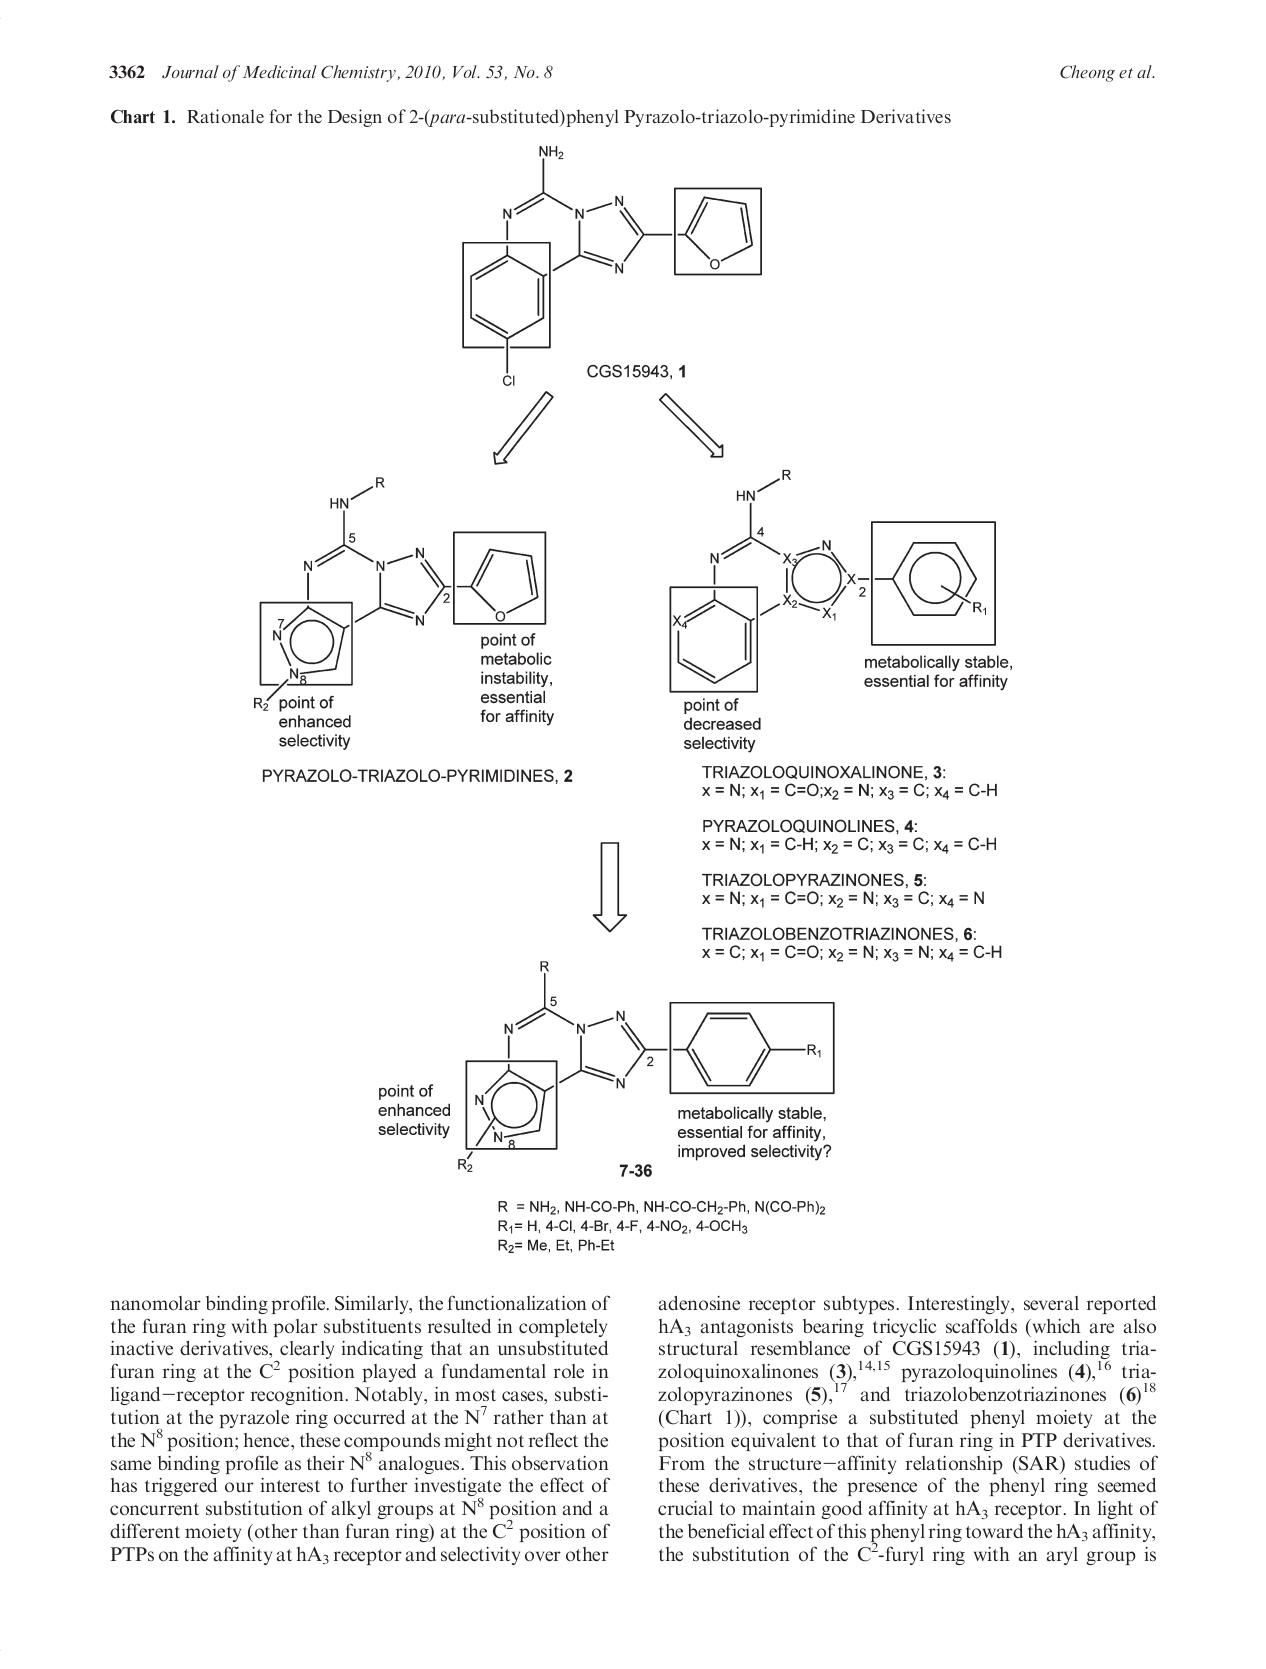exist_molecular: (449, 958, 839, 1174), (453, 142, 765, 390), (660, 469, 1000, 696), (253, 469, 551, 719)
